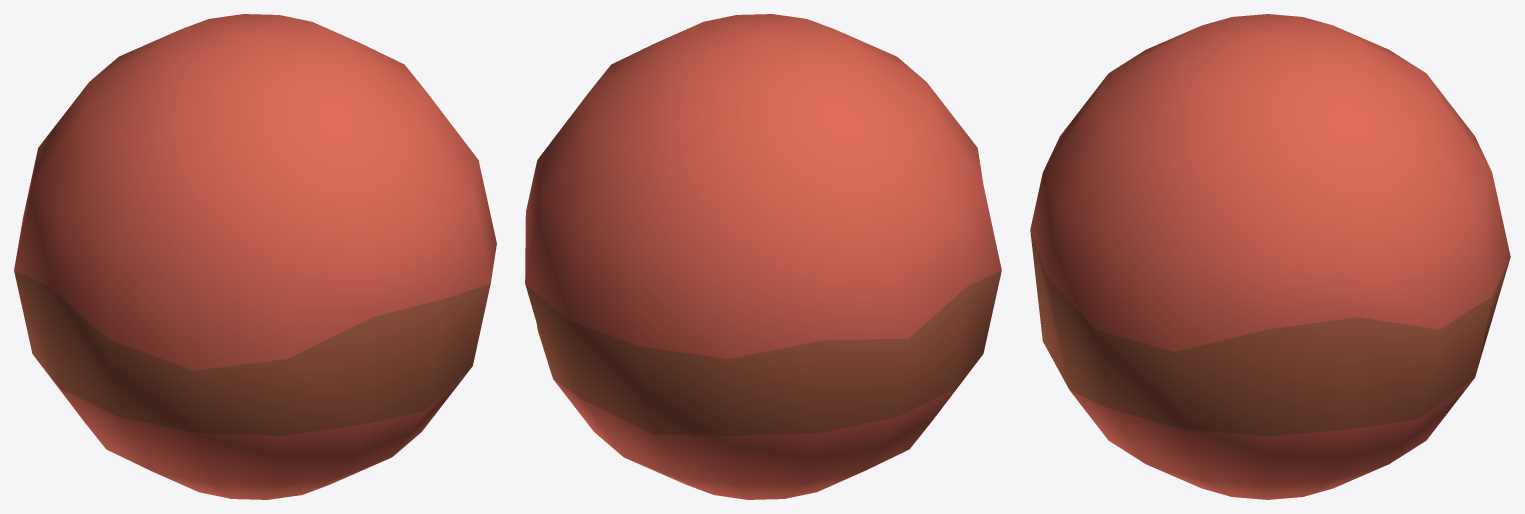
Rendered from 04_Marte.gltf.
3 views of the same model, side by side, from view 1: azimuth 30°, elevation 25°; view 2: azimuth 150°, elevation 25°; view 3: azimuth 270°, elevation 25° (orthographic).
Parts seen in each view (by area): view 1: 04_Marte; view 2: 04_Marte; view 3: 04_Marte.
Boxes of the visible parts, bbox=[...] form: 04_Marte: bbox=[14, 14, 496, 499]; 04_Marte: bbox=[525, 14, 1001, 499]; 04_Marte: bbox=[1030, 14, 1510, 499].
Size of the model in its own units: 0.2859 by 0.2923 by 0.2887.
Materials: 1 (1 with a texture image).
